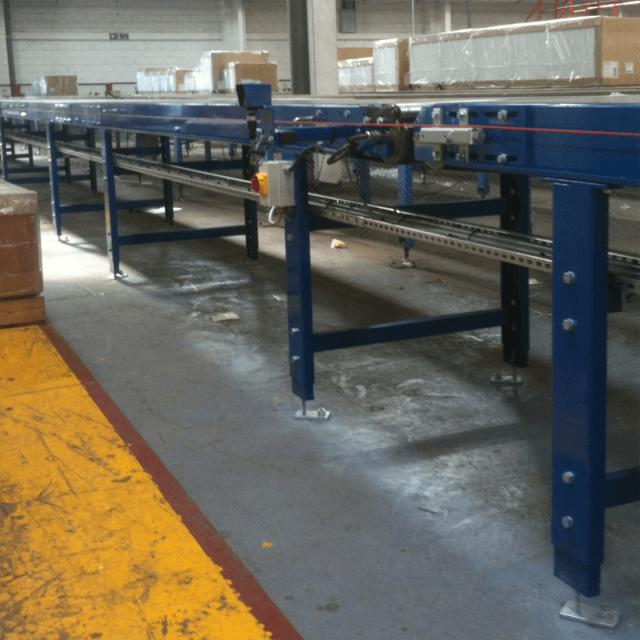conveyor: (0, 98, 640, 323)
